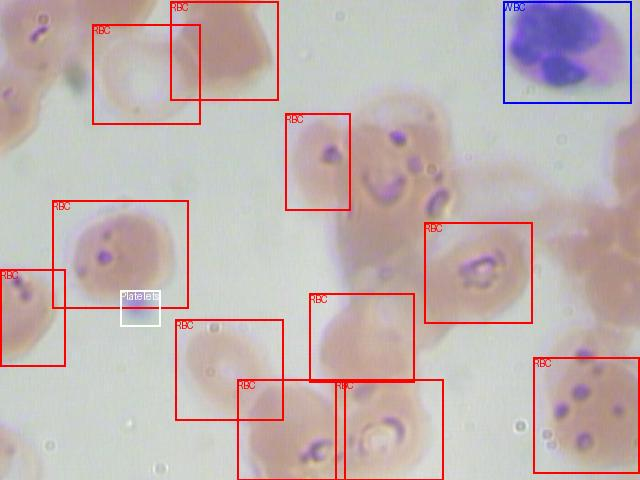Platelets: (120, 290, 160, 326)
RBC: (52, 200, 188, 308), (533, 357, 639, 473), (175, 319, 283, 420), (237, 379, 345, 480), (424, 222, 532, 323), (335, 379, 443, 480), (92, 24, 200, 124), (170, 1, 278, 100), (309, 293, 414, 382), (0, 269, 65, 366), (285, 113, 350, 210)
WBC: (503, 1, 631, 103)
